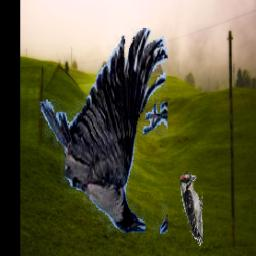Crow: (41, 28, 169, 234)
Woodpecker: (180, 173, 204, 248)
